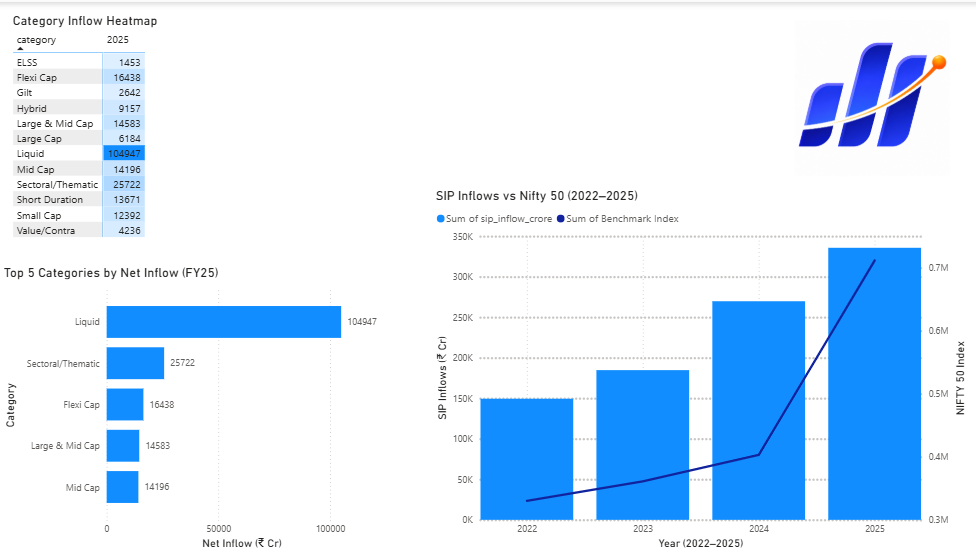

The page's visual inventory and layout, read from the dashboard file:
{"tool":"powerbi","page":{"name":"SIP & Market Trends","canvas":[1280,720],"ordinal":3},"visuals":[{"type":"pivotTable","title":"Category Inflow Heatmap","fields":{"Rows":["05_category_inflows_cleaned.category"],"Columns":["05_category_inflows_cleaned.month.Variation.Date Hierarchy.Year","05_category_inflows_cleaned.month.Variation.Date Hierarchy.Quarter","05_category_inflows_cleaned.month.Variation.Date Hierarchy.Month","05_category_inflows_cleaned.month.Variation.Date Hierarchy.Day"],"Values":["Sum(05_category_inflows_cleaned.net_inflow_crore)"]},"box":[11.8,13.7,321.3,309.6],"z":0},{"type":"clusteredBarChart","title":"Top 5 Categories by Net Inflow (FY25)","fields":{"Y":["Sum(05_category_inflows_cleaned.net_inflow_crore)"],"Category":["05_category_inflows_cleaned.category"]},"box":[0,342.9,517.2,376.2],"z":1000},{"type":"lineClusteredColumnComboChart","title":"SIP Inflows vs Nifty 50 (2022–2025)","fields":{"Category":["04_monthly_sip_inflows_cleaned.month.Variation.Date Hierarchy.Year","04_monthly_sip_inflows_cleaned.month.Variation.Date Hierarchy.Quarter","04_monthly_sip_inflows_cleaned.month.Variation.Date Hierarchy.Month","04_monthly_sip_inflows_cleaned.month.Variation.Date Hierarchy.Day"],"Y":["Sum(04_monthly_sip_inflows_cleaned.sip_inflow_crore)"],"Y2":["Sum(10_benchmark_indices_cleaned.Benchmark Index)"]},"box":[564.2,242.9,701.4,476.1],"z":2000},{"type":"image","box":[1014.8,22.7,249.5,204.1],"z":2001}]}

Visuals, with their boxes in screenshot pixels (x1, y1, x2, y2), scaled from the page's 1280x720 canvas onto the 976x553 screenshot:
"Category Inflow Heatmap" pivotTable: bbox=(9, 11, 254, 248)
"Top 5 Categories by Net Inflow (FY25)" clusteredBarChart: bbox=(0, 263, 394, 552)
"SIP Inflows vs Nifty 50 (2022–2025)" lineClusteredColumnComboChart: bbox=(430, 187, 965, 552)
image: bbox=(774, 17, 964, 174)
